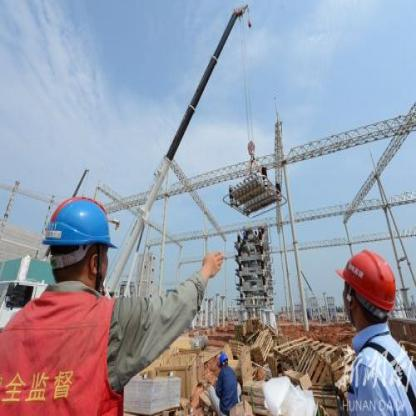helmet: (42, 191, 121, 294), (337, 245, 403, 328), (219, 349, 228, 371)
